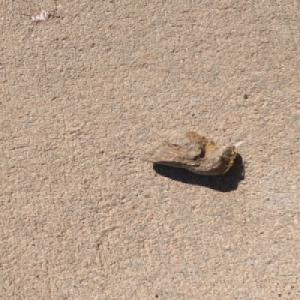Rock: (136, 128, 237, 176)
